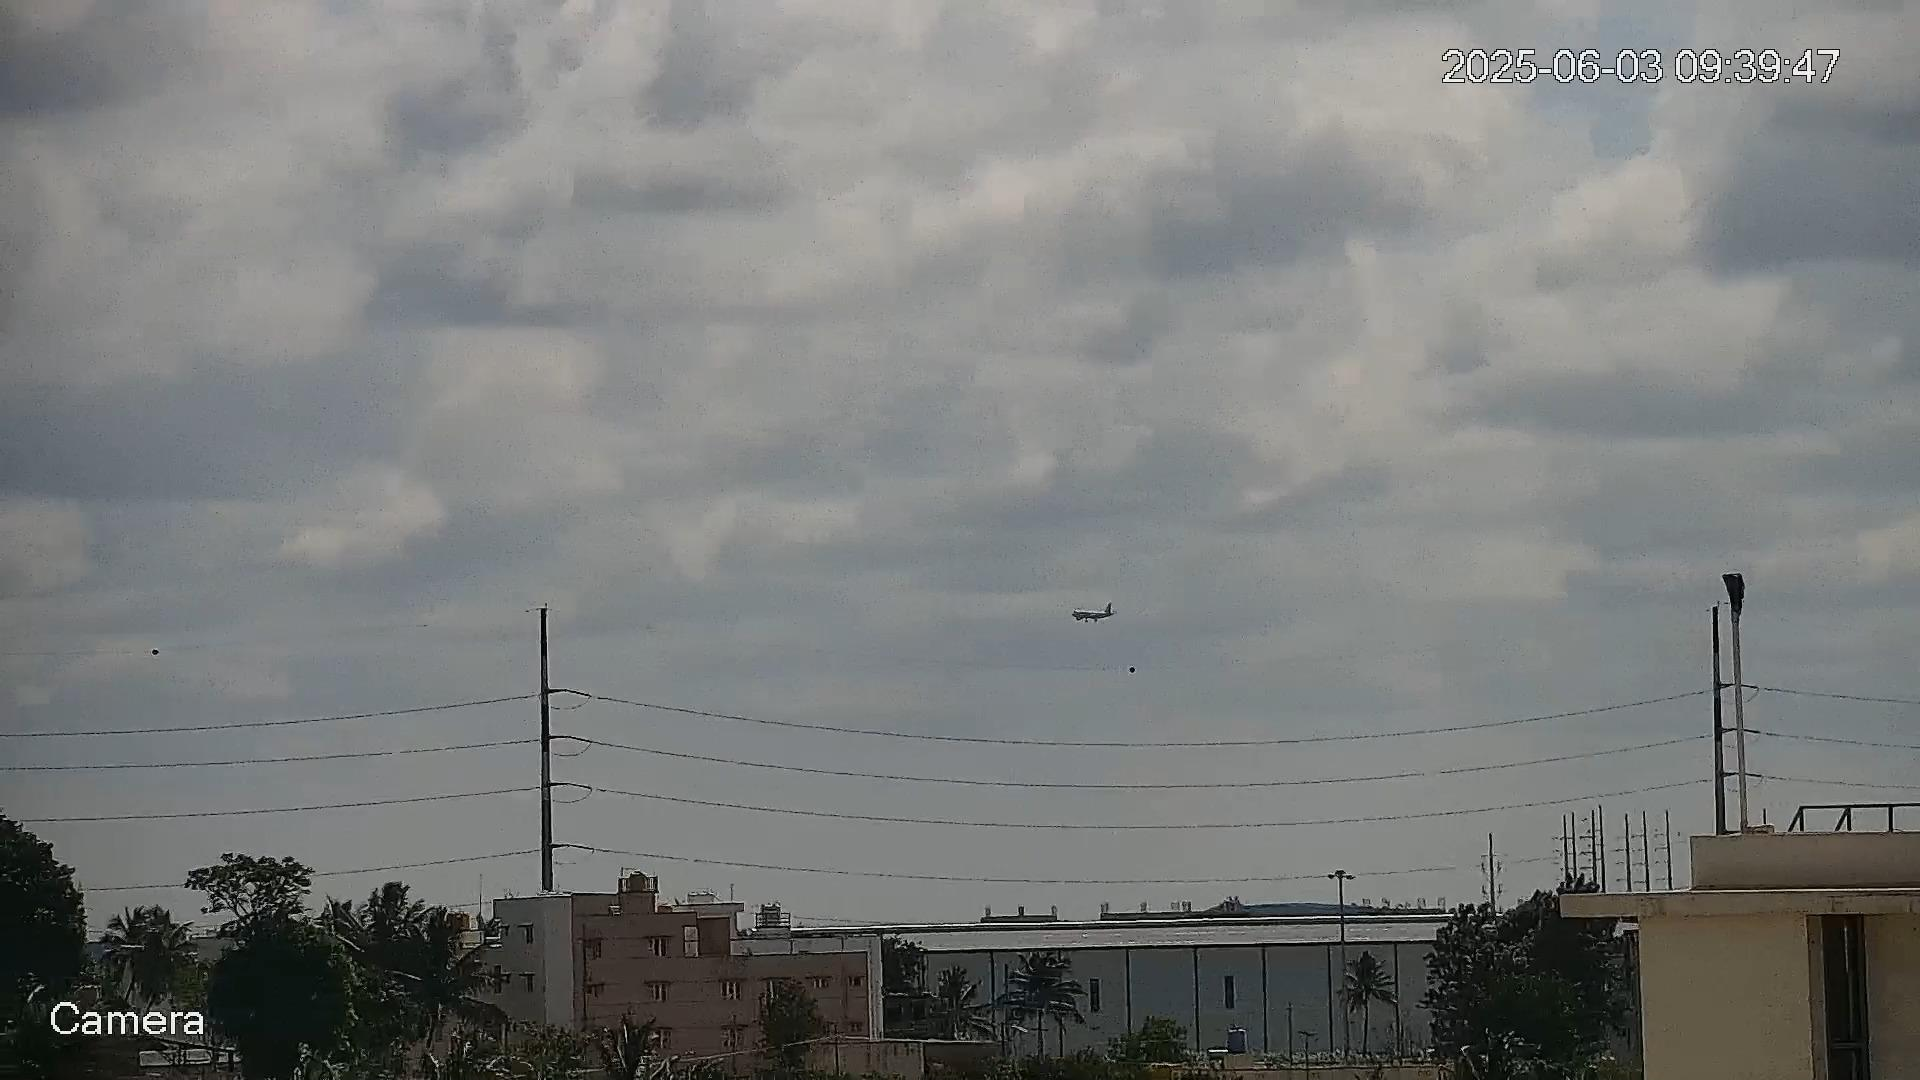Aircraft: (1071, 603, 1116, 622)
